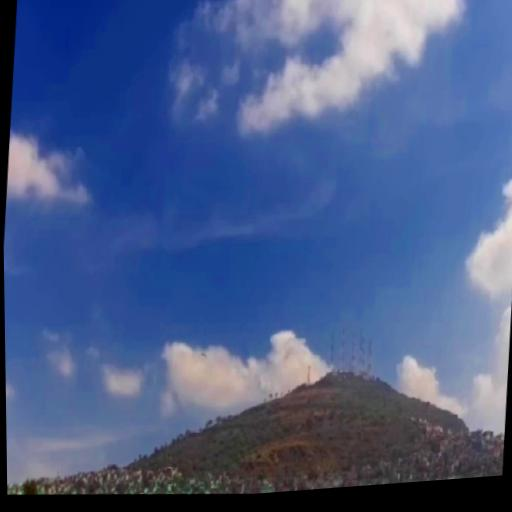drones: (197, 347, 211, 364)
